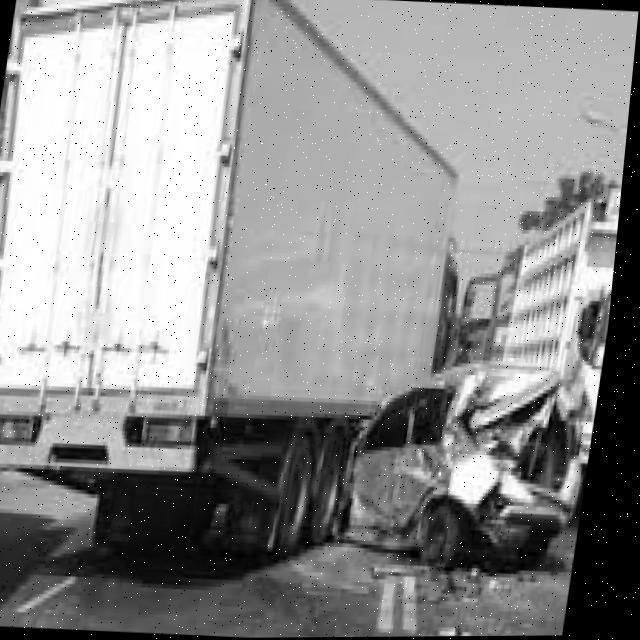truck: (1, 1, 489, 588)
